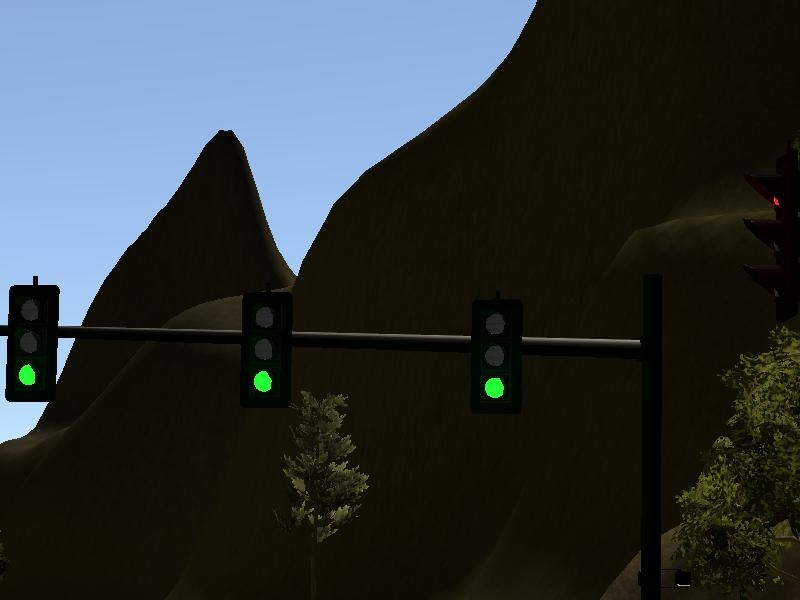GREEN: (5, 284, 60, 399), (469, 294, 521, 411), (240, 289, 292, 406)
